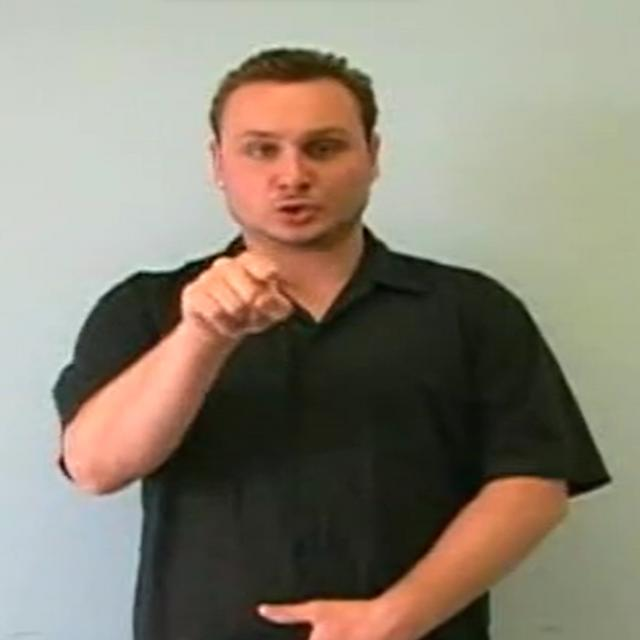you: (180, 252, 294, 341)
